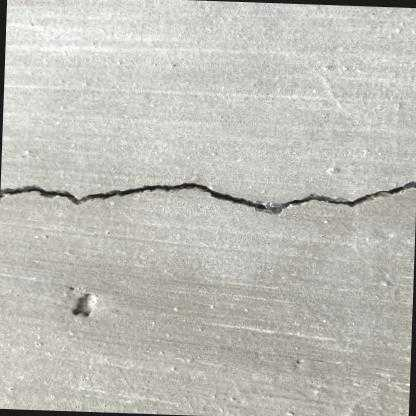crack: (0, 178, 416, 215)
